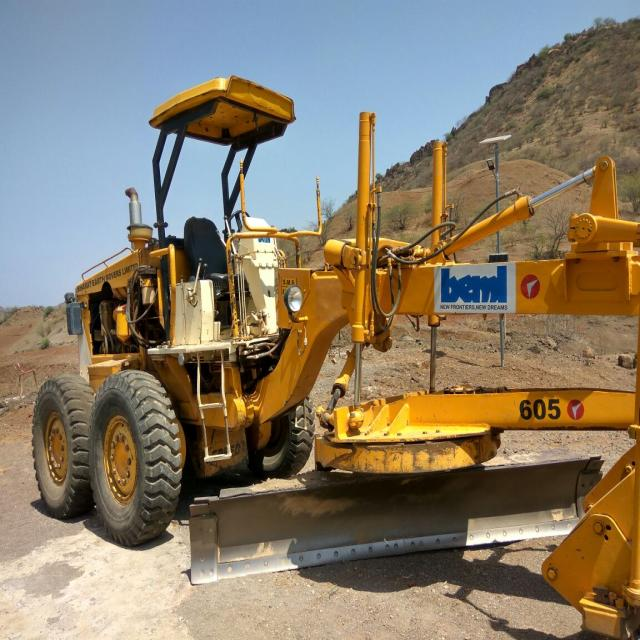buldozerpayloadergrader: (30, 68, 640, 640)
